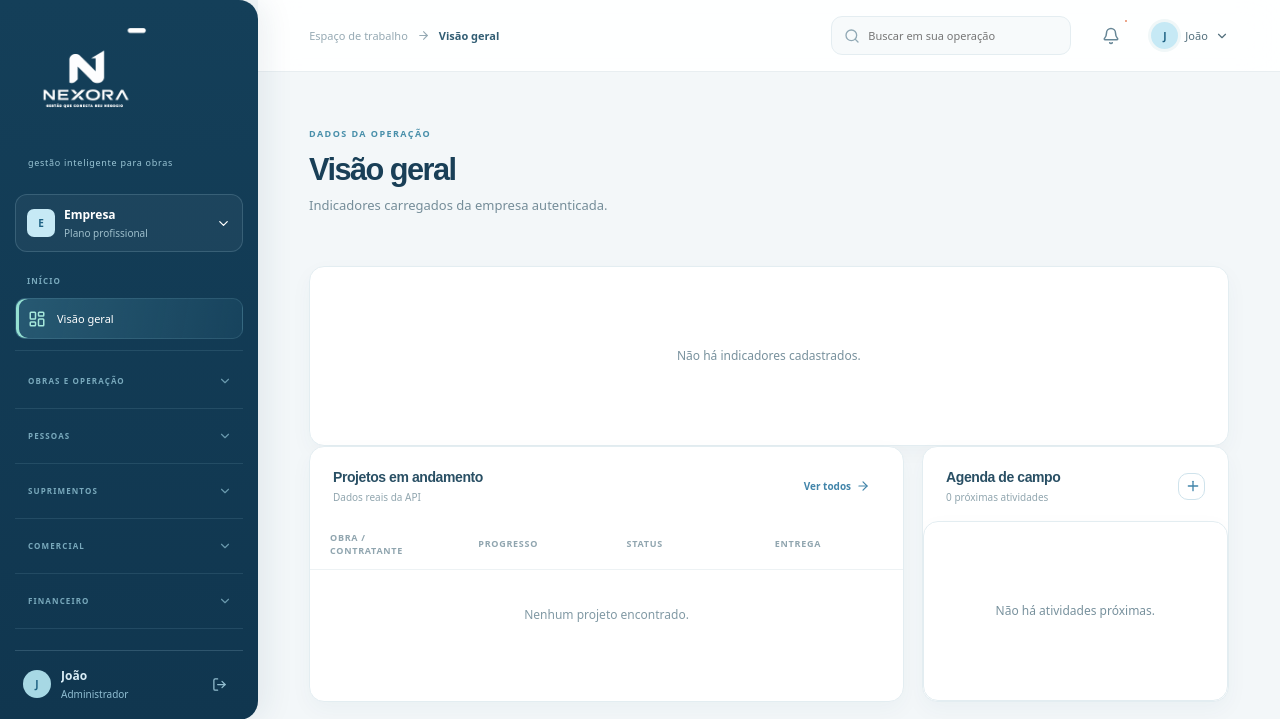
Scenario: autenticação › faz logout e remove a sessão persistida
Click the button titled "Sair": click(219, 684) [203,668,235,700]
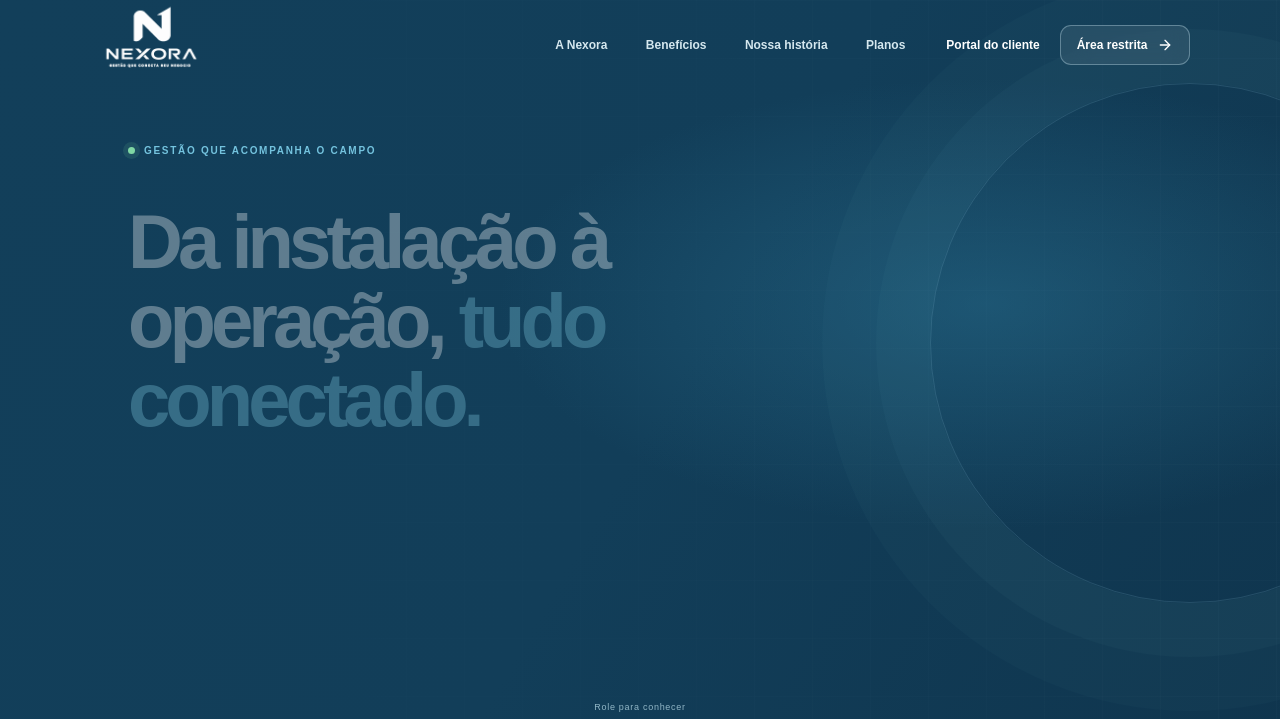
Now the button "Área restrita" is shown, box [1060,25,1190,65]
